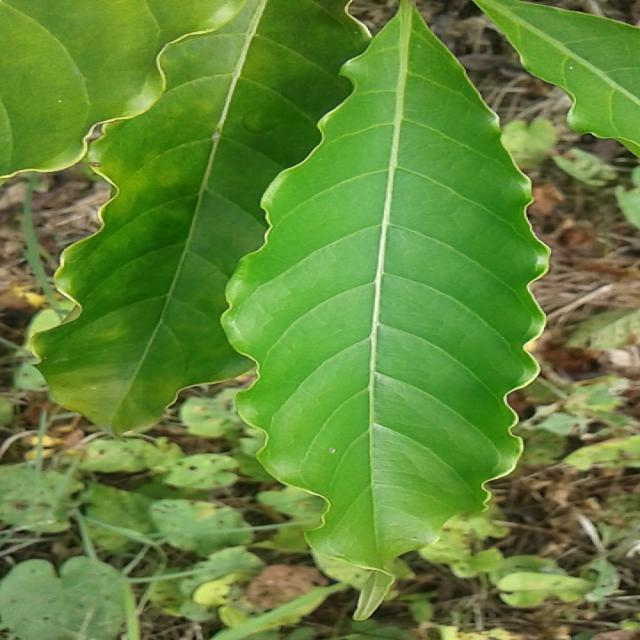Sanas: (220, 5, 550, 621)
